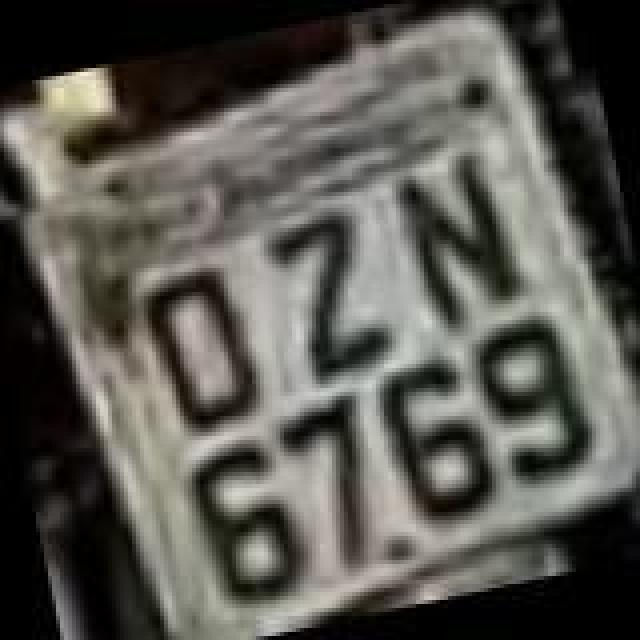6: (174, 426, 306, 614), (370, 344, 502, 520)
7: (266, 384, 390, 592)
9: (462, 308, 594, 492)
N: (384, 142, 536, 338)
O: (132, 252, 268, 436)
Z: (256, 202, 400, 390)
